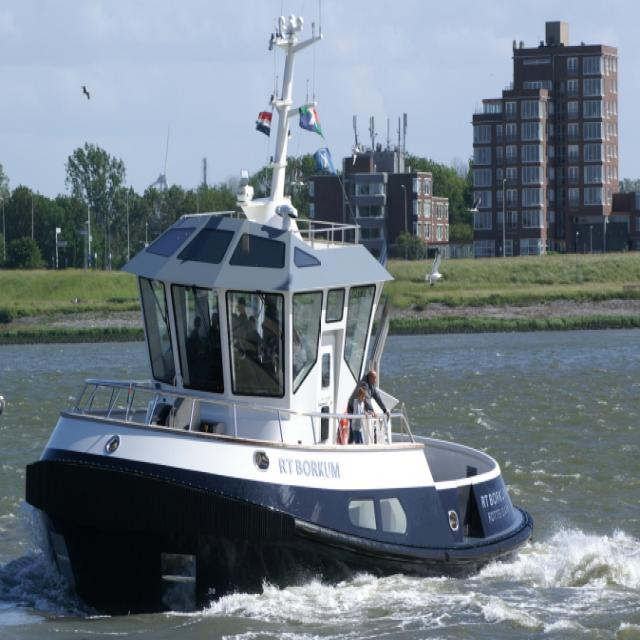tugboat: (19, 12, 538, 634)
